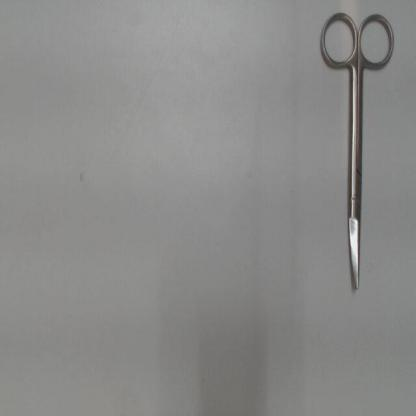Curved Mayo Scissors: (315, 9, 399, 296)
